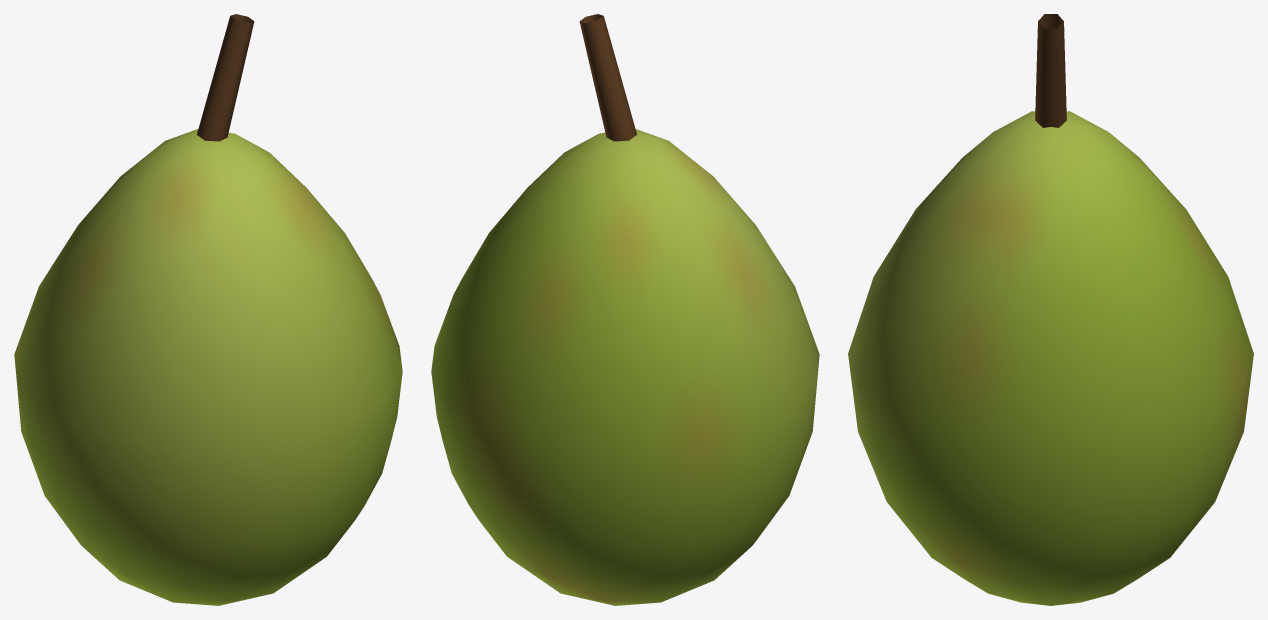
Rendered from fruit_pear.glb.
3 renders of one model, left to right at view 1: azimuth 30°, elevation 25°; view 2: azimuth 150°, elevation 25°; view 3: azimuth 270°, elevation 25°, orthographic. The views are drawn at different scales.
Parts seen in each view (by area): view 1: fruit_pear; view 2: fruit_pear; view 3: fruit_pear.
Boxes of the visible parts, x1,y1,x2,y2 form: fruit_pear: (14, 14, 402, 605); fruit_pear: (431, 14, 819, 605); fruit_pear: (848, 14, 1253, 605).
Bounding box in the file's own units: 0.2 × 0.3215 × 0.2.
